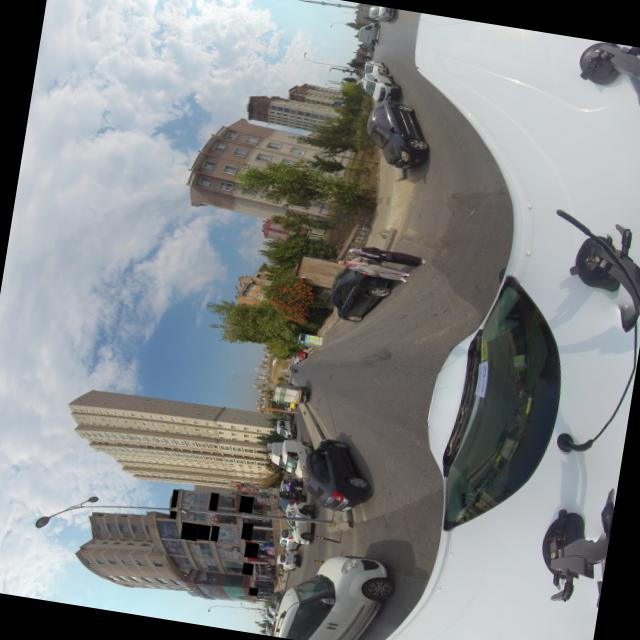SignStore: (183, 521, 197, 540), (246, 541, 257, 558), (241, 495, 252, 512), (200, 523, 209, 540), (171, 489, 179, 507), (243, 522, 251, 540), (211, 492, 218, 511), (244, 562, 252, 575), (213, 525, 218, 541), (250, 587, 257, 595), (171, 510, 176, 518)
